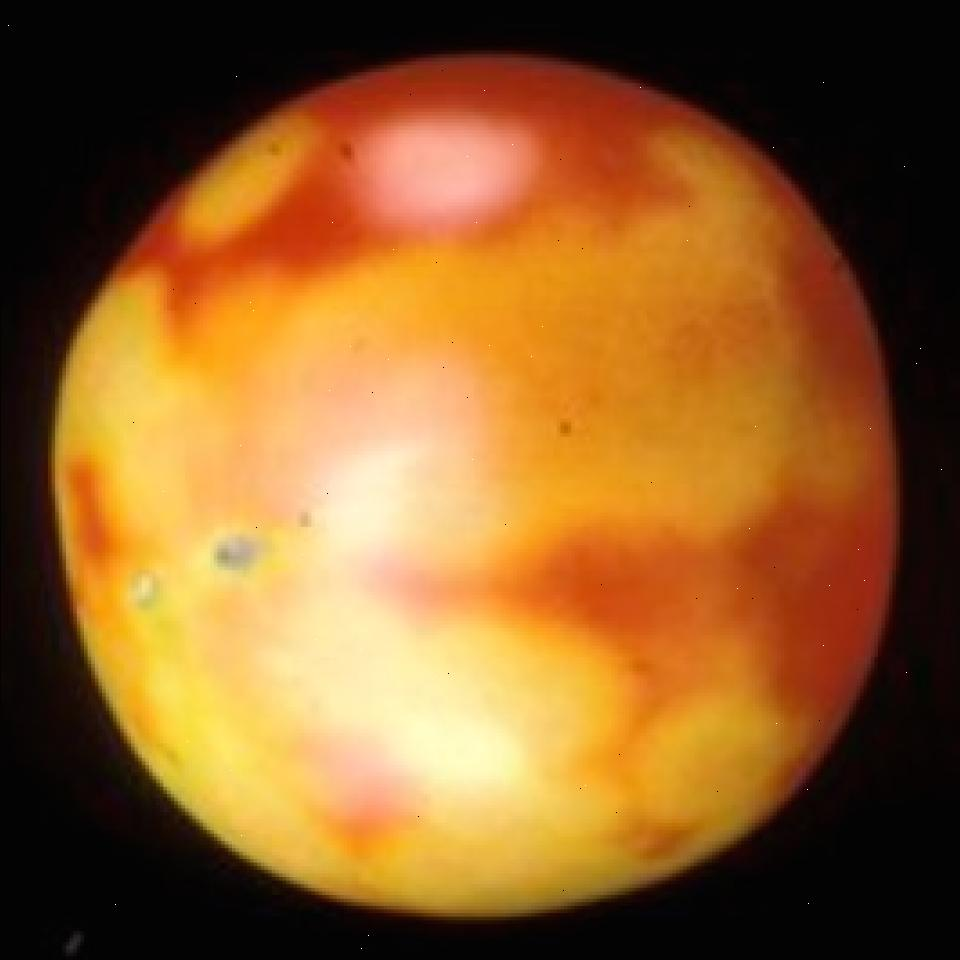Spotted wilt Virus: (58, 58, 899, 906)
